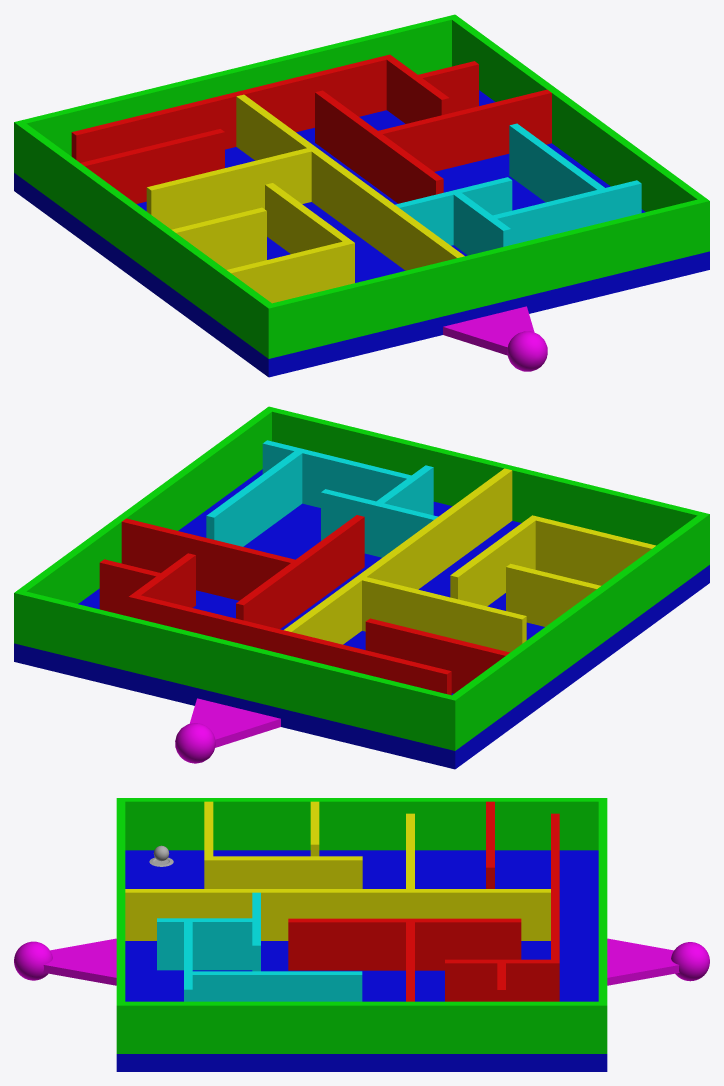
Rendered from Labyrinth_Board.fbx.
The picture shows the model from 3 angles, top to bottom: view 1: azimuth 30°, elevation 25°; view 2: azimuth 150°, elevation 25°; view 3: azimuth 270°, elevation 25°; orthographic projection. The views are drawn at different scales.
Visible parts, largest first — view 1: Board_Wall_04, Board_Floor, Board_Wall_01, Board_Wall_02, Inner_Wall_07, Board_Wall_03, Inner_Wall_05, Inner_Wall_010, Inner_Wall_04, Inner_Wall_011, Inner_Wall_06, Inner_Wall_013 (+9 smaller); view 2: Board_Wall_02, Board_Floor, Board_Wall_04, Board_Wall_01, Board_Wall_03, Inner_Wall_05, Inner_Wall_07, Inner_Wall_010, Inner_Wall_04, Inner_Wall_011, Inner_Wall_01, Inner_Wall_012 (+9 smaller); view 3: Board_Floor, Board_Wall_03, Board_Wall_01, Inner_Wall_05, Inner_Wall_011, Inner_Wall_012, Inner_Wall_02, Inner_Wall_014, Inner_Wall_08, Left_handle, Right_Handle, Board_Wall_04 (+9 smaller).
Boxes of the visible parts, x1,y1,x2,y2 form: Board_Wall_04: (264,197,709,358); Board_Floor: (14,90,709,377); Board_Wall_01: (18,123,271,355); Board_Wall_02: (14,16,451,175); Inner_Wall_07: (71,54,394,162); Board_Wall_03: (448,14,704,211); Inner_Wall_05: (236,94,464,270); Inner_Wall_010: (378,89,551,171); Inner_Wall_04: (146,148,311,229); Inner_Wall_011: (315,90,443,203); Inner_Wall_06: (80,129,224,203); Inner_Wall_013: (493,180,641,244); Board_Wall_02: (22,591,459,750); Board_Floor: (14,469,709,769); Board_Wall_04: (264,406,709,567); Board_Wall_01: (452,515,705,747); Board_Wall_03: (14,410,271,645); Inner_Wall_05: (284,468,512,644); Inner_Wall_07: (128,593,451,695); Inner_Wall_010: (121,518,294,600); Inner_Wall_04: (362,577,526,652); Inner_Wall_011: (236,515,364,629); Inner_Wall_01: (535,517,655,585); Inner_Wall_012: (206,451,302,546); Board_Floor: (116,850,607,1071); Board_Wall_03: (125,1001,607,1053); Board_Wall_01: (125,798,598,850); Inner_Wall_05: (125,889,550,940); Inner_Wall_011: (288,918,521,970); Inner_Wall_012: (192,971,362,1001); Inner_Wall_02: (204,856,362,888); Inner_Wall_014: (157,918,252,970); Inner_Wall_08: (445,959,550,1001); Left_handle: (14,938,116,985); Right_Handle: (607,938,709,985); Board_Wall_04: (116,798,125,1053).
Size of the model in its own units: 25 by 4.46 by 35.46.
